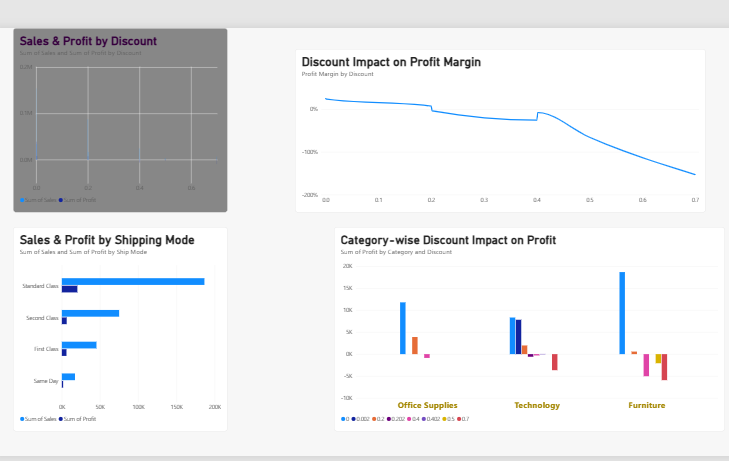

Layout of this report page (visuals, bound fields, positions):
{"tool":"powerbi","page":{"name":"Discount & Shipping Analysis","canvas":[1920,1080],"ordinal":2},"visuals":[{"type":"clusteredColumnChart","title":"Sales & Profit by Discount","fields":{"Category":["Retail_Superstore.Discount"],"Y":["Sum(Retail_Superstore.Sales)","Sum(Retail_Superstore.Profit)"]},"box":[55.5,0,541.4,464.8],"z":0},{"type":"lineChart","title":"Discount Impact on Profit Margin","fields":{"Category":["Retail_Superstore.Discount"],"Y":["Retail_Superstore.Profit Margin"]},"box":[765.9,52.8,1035.3,412],"z":1000},{"type":"clusteredColumnChart","title":"Category-wise Discount Impact on Profit","fields":{"Category":["Retail_Superstore.Category"],"Series":["Retail_Superstore.Discount"],"Y":["Sum(Retail_Superstore.Profit)"]},"box":[863.6,501.8,985.1,515],"z":2000},{"type":"clusteredBarChart","title":"Sales & Profit by Shipping Mode","fields":{"Category":["Retail_Superstore.Ship Mode"],"Y":["Sum(Retail_Superstore.Sales)","Sum(Retail_Superstore.Profit)"]},"box":[55,502,541,515],"z":3000}]}

Visuals, with their boxes on the page's 1920x1080 design canvas (x1, y1, x2, y2). These are canvas units, not pixel positions in the 729x461 screenshot, which may show the page scaled, cropped or inside an application window:
"Sales & Profit by Discount" clusteredColumnChart: [56,0,597,465]
"Discount Impact on Profit Margin" lineChart: [766,53,1801,465]
"Category-wise Discount Impact on Profit" clusteredColumnChart: [864,502,1849,1017]
"Sales & Profit by Shipping Mode" clusteredBarChart: [55,502,596,1017]
